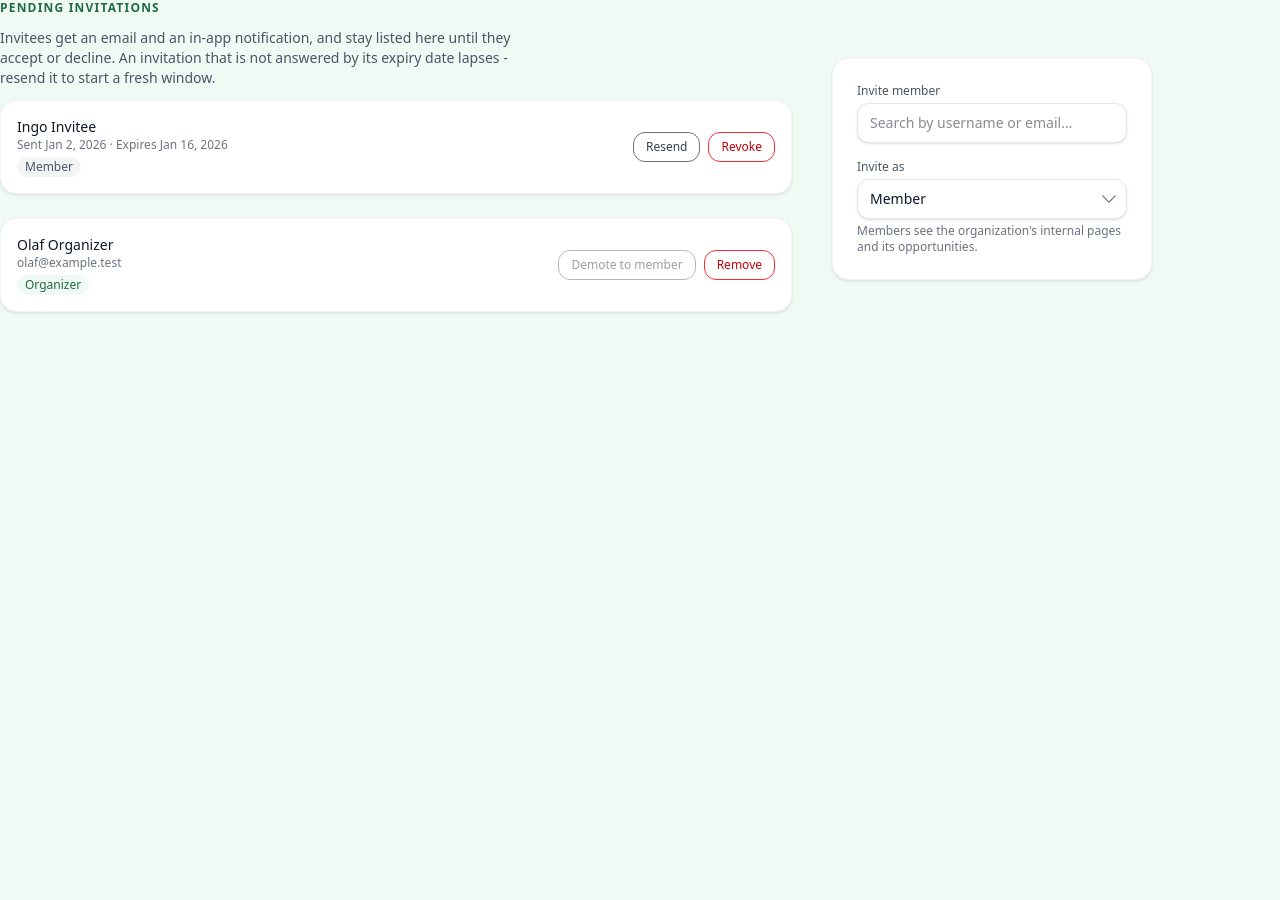
Test case: OrgMembersPage invitations › leaves the invitation alone when the revoke is not confirmed
Step 1. Click the button "Revoke" → {"x": 742, "y": 147}, box x1=708 y1=132 x2=775 y2=162
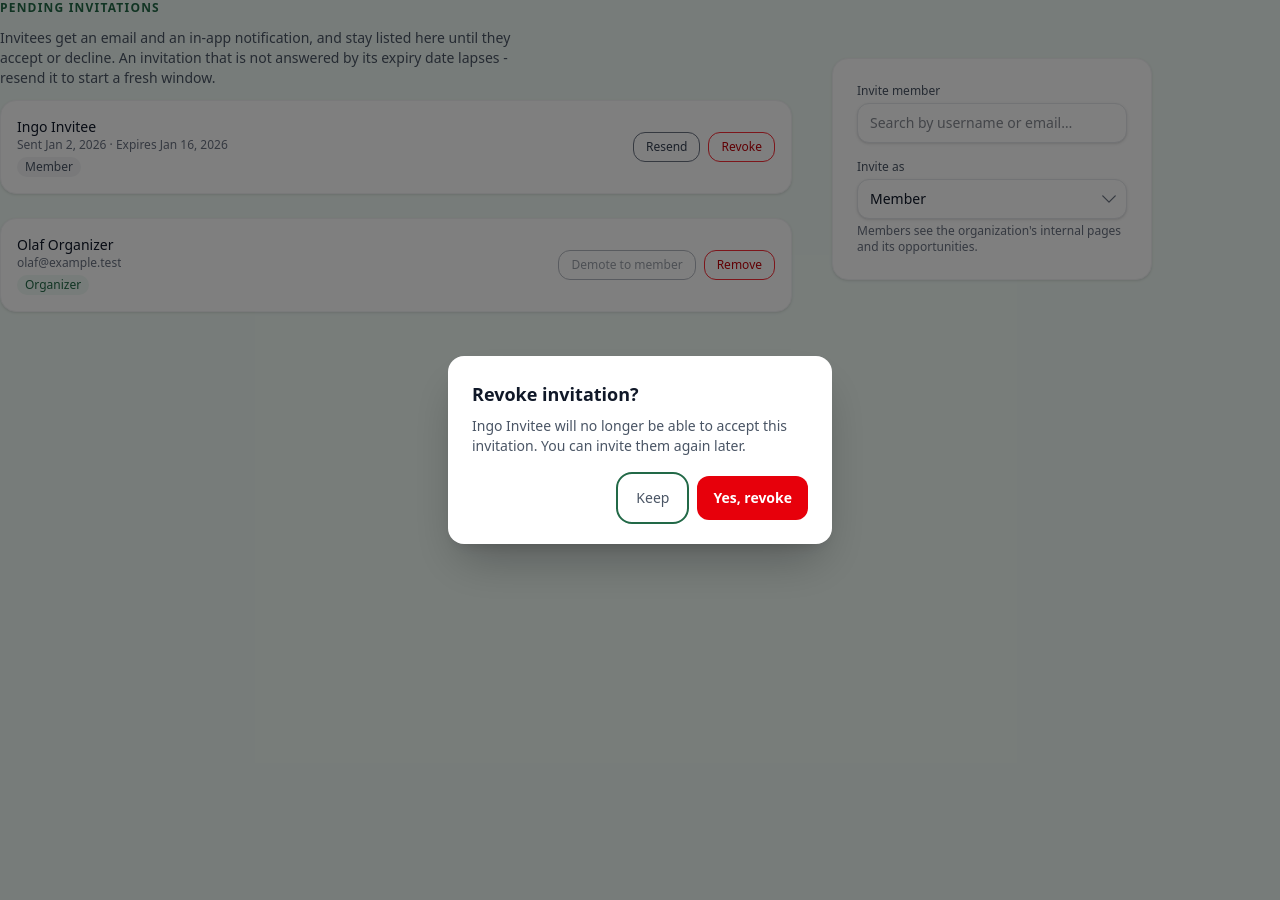
Result: the text "Ingo Invitee" is shown at x1=472 y1=416 x2=787 y2=455
Step 2. Click the button "Keep" → {"x": 653, "y": 498}, box x1=620 y1=476 x2=686 y2=520
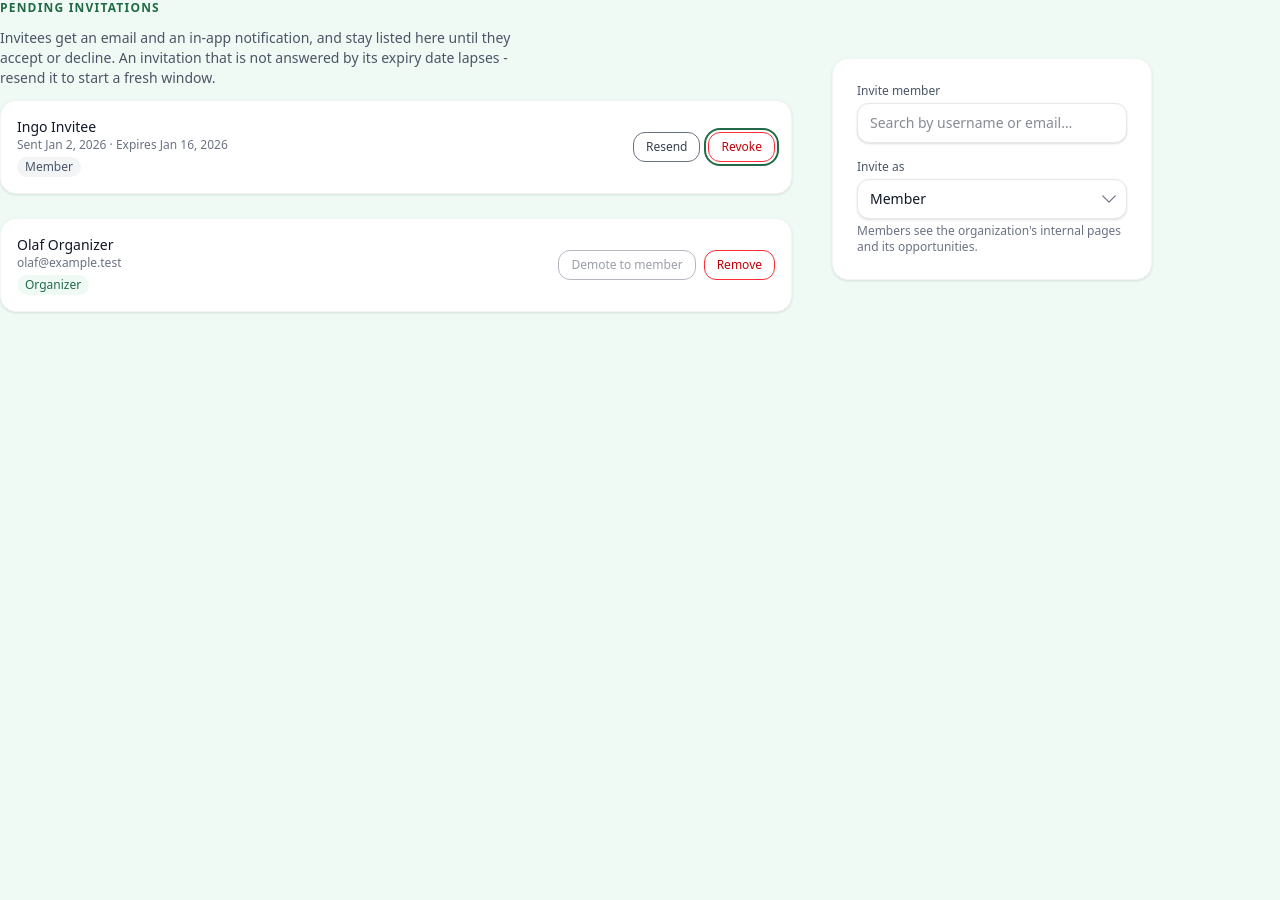
Result: the dialog is gone
